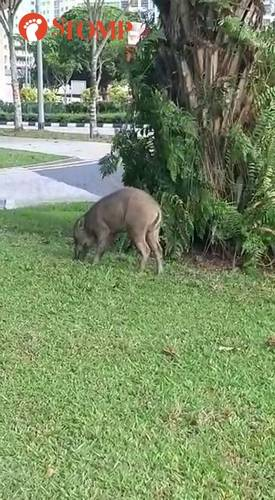boar: (66, 178, 173, 279)
